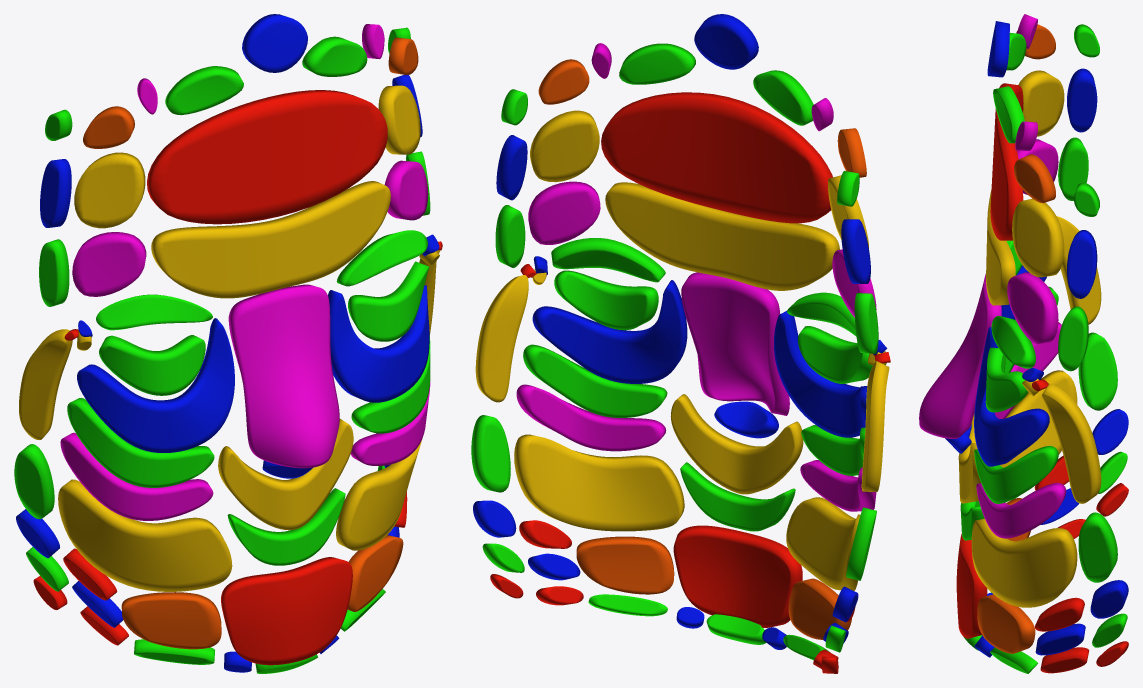
The model's file is mascara_3.fbx.
3 views of the same model, side by side, from view 1: azimuth 30°, elevation 25°; view 2: azimuth 150°, elevation 25°; view 3: azimuth 270°, elevation 25° (orthographic). The views are drawn at different scales.
Parts seen in each view (by area): view 1: Plane; view 2: Plane; view 3: Plane.
Part boxes in pixels (<box>): Plane: <box>14,14,442,673</box>; Plane: <box>471,14,890,673</box>; Plane: <box>919,14,1128,673</box>.
Size of the model in its own units: 17.46 by 25.99 by 8.
